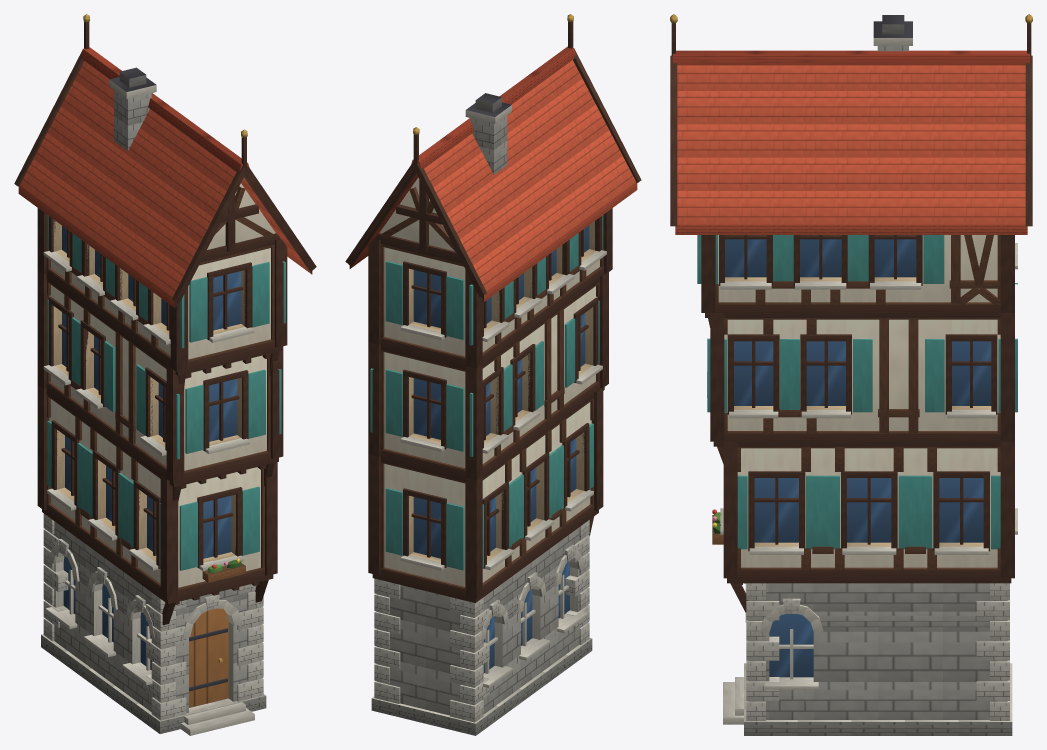
Rendered from res_townhouse_01.glb.
3 views of the same model, side by side, from view 1: azimuth 30°, elevation 25°; view 2: azimuth 150°, elevation 25°; view 3: azimuth 270°, elevation 25° (orthographic). The views are drawn at different scales.
Parts seen in each view (by area): view 1: res_townhouse_01; view 2: res_townhouse_01; view 3: res_townhouse_01.
Part boxes in pixels (left/top/right/bottom): res_townhouse_01: left=14, top=14, right=316, bottom=735; res_townhouse_01: left=345, top=14, right=641, bottom=735; res_townhouse_01: left=670, top=14, right=1032, bottom=735.
Bounding box in the file's own units: 4.16 × 17.23 × 8.18.
Materials: 1 (1 with a texture image).
